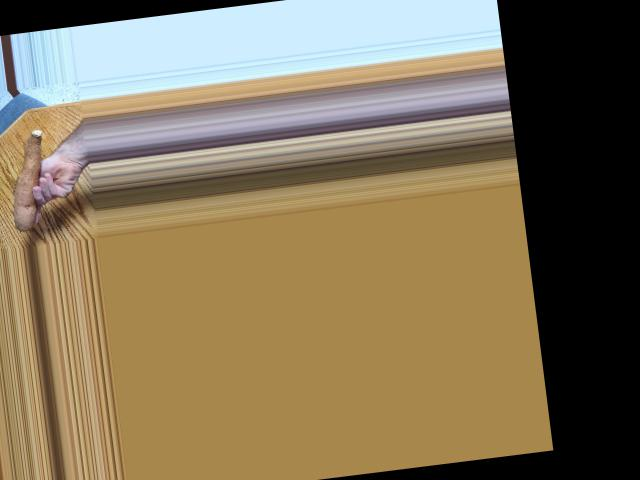sweet_potato: (1, 127, 57, 233)
